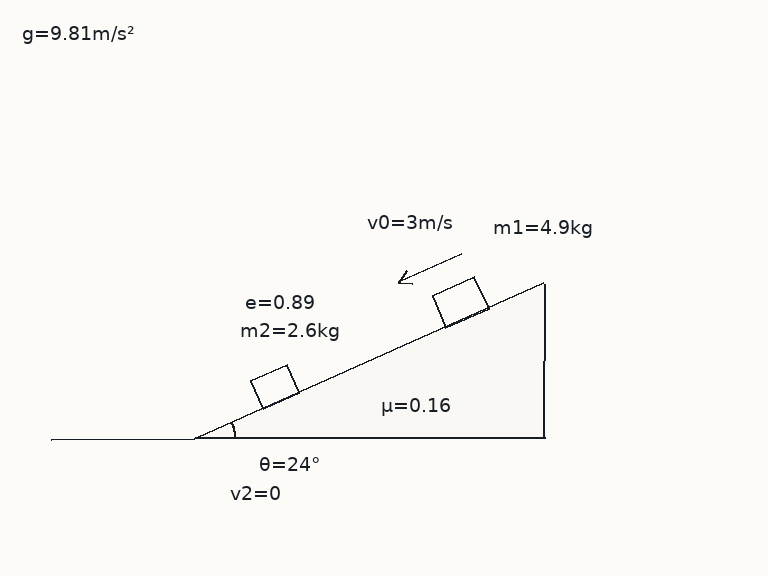block: (430, 275, 490, 329), (249, 363, 301, 410)
ramp: (193, 281, 546, 440)
